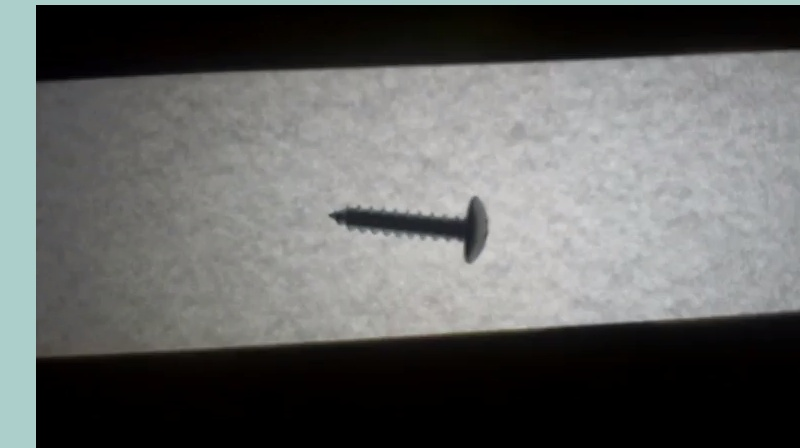S003: (324, 188, 492, 266)
